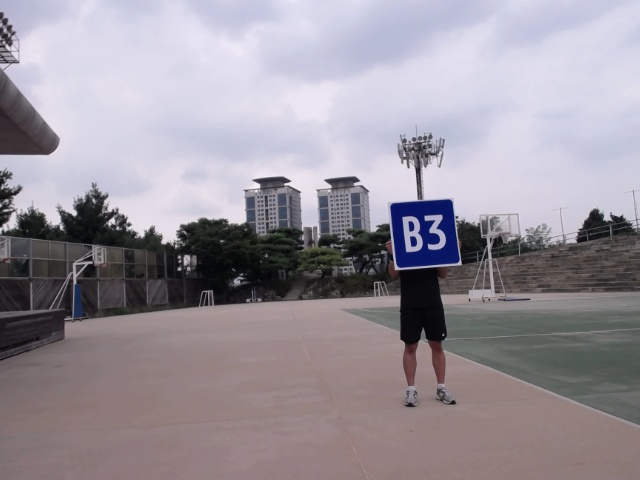delivery_b3: (389, 198, 461, 270)
